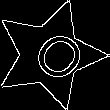O_SW: (15, 21, 84, 88)
